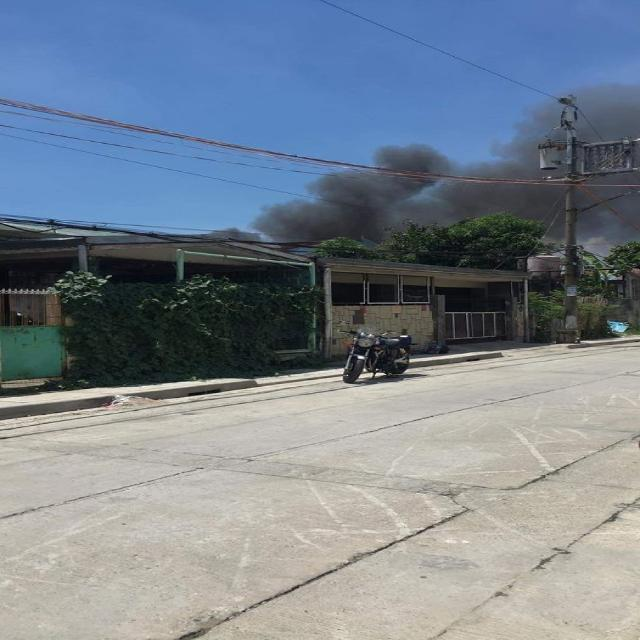Smoke: (448, 82, 640, 245), (246, 143, 451, 245)
